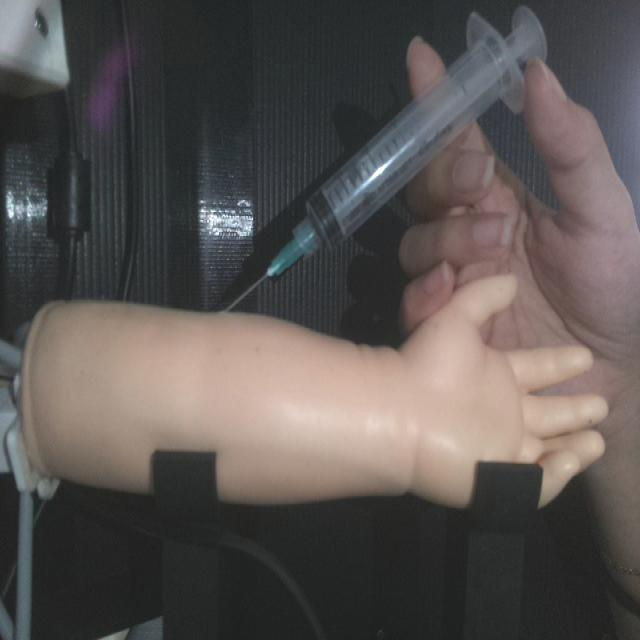Above 30 degrees: (217, 4, 550, 316)
